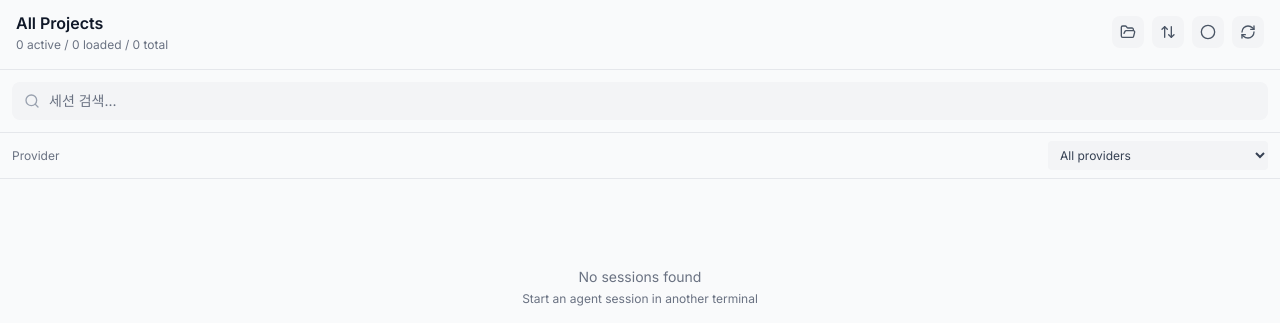
it: SessionList › project filter dropdown › closes project menu after selecting a project
Click the button titled "프로젝트 필터" at {"x": 1128, "y": 32}, box [1112,16,1144,48]
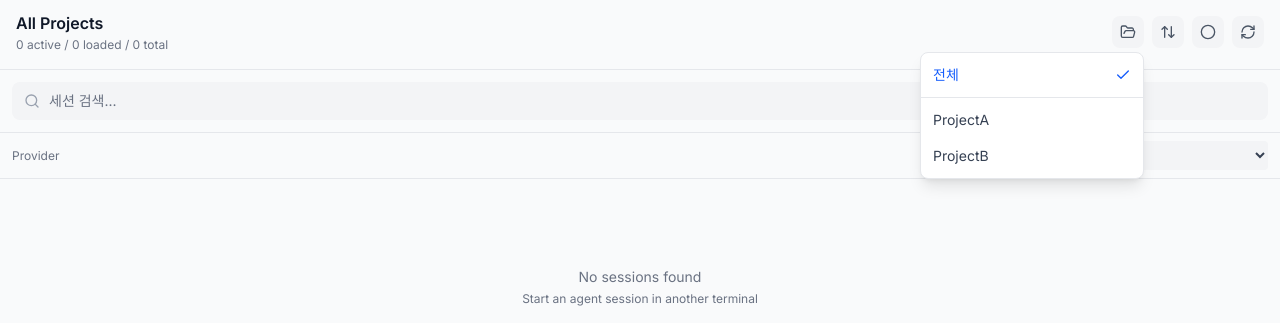
expect the text "ProjectA" is shown: met, box [933,110,989,130]
Click the button "ProjectA" at {"x": 1032, "y": 120}, box [921,102,1143,138]
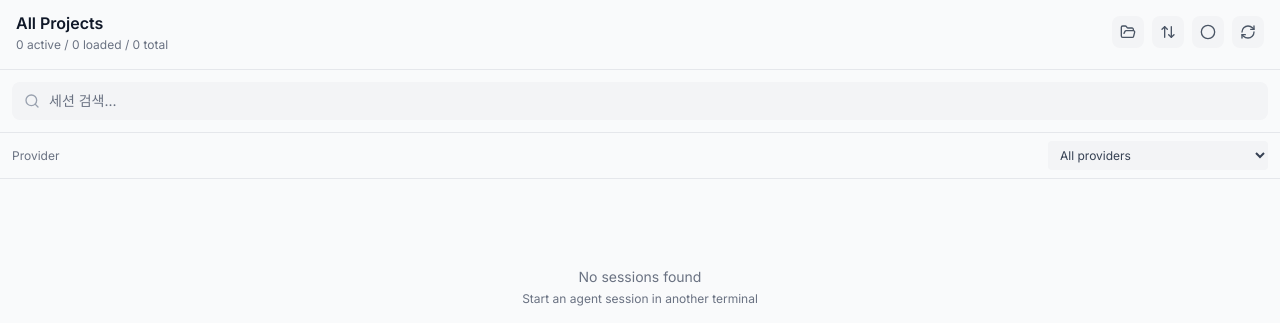
expect the button "ProjectB" is gone: met
